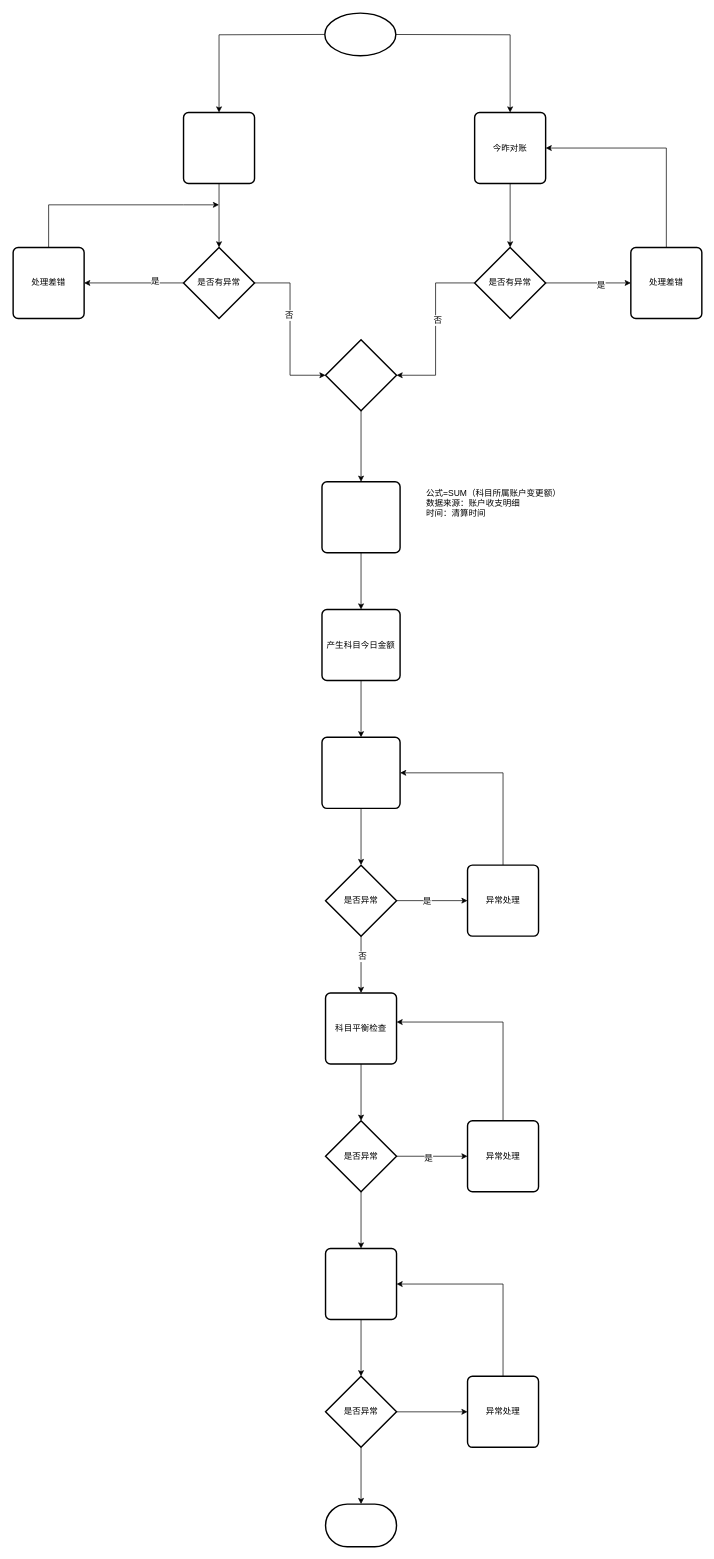
Image size: 714x1559. Some labels were removed from this diagram. Each missing label, with the box of its shape:
产生科目变更额: (321, 481, 400, 553)
开始: (324, 12, 396, 56)
总分检查: (321, 736, 400, 809)
结束: (324, 1503, 397, 1547)
虚实检查: (324, 1247, 397, 1320)
通道对账: (182, 111, 255, 184)
通道对账和今昨对账差错都已经处理完: (324, 339, 397, 411)
